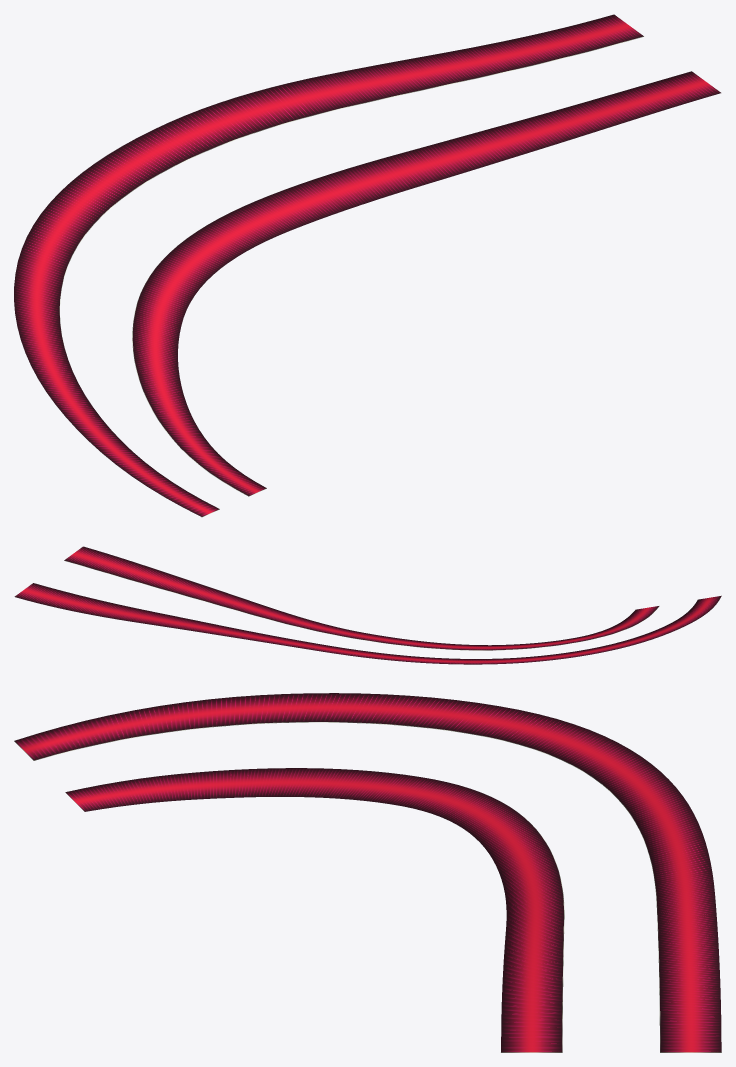
Rendered from HealPads.obj.
3 views of the same model, one above another, from view 1: azimuth 30°, elevation 25°; view 2: azimuth 150°, elevation 25°; view 3: azimuth 270°, elevation 25° (orthographic). The views are drawn at different scales.
Size of the model in its own units: 1010 by 127 by 766.
Materials: 2 (2 with a texture image).
